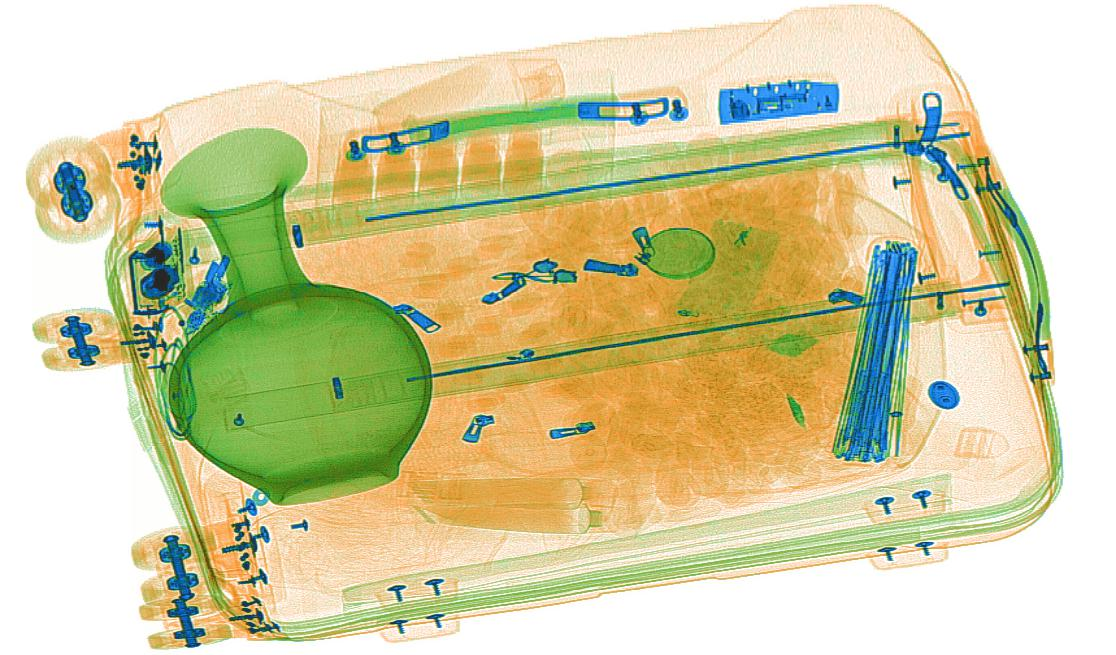battery: (140, 240, 173, 269)
